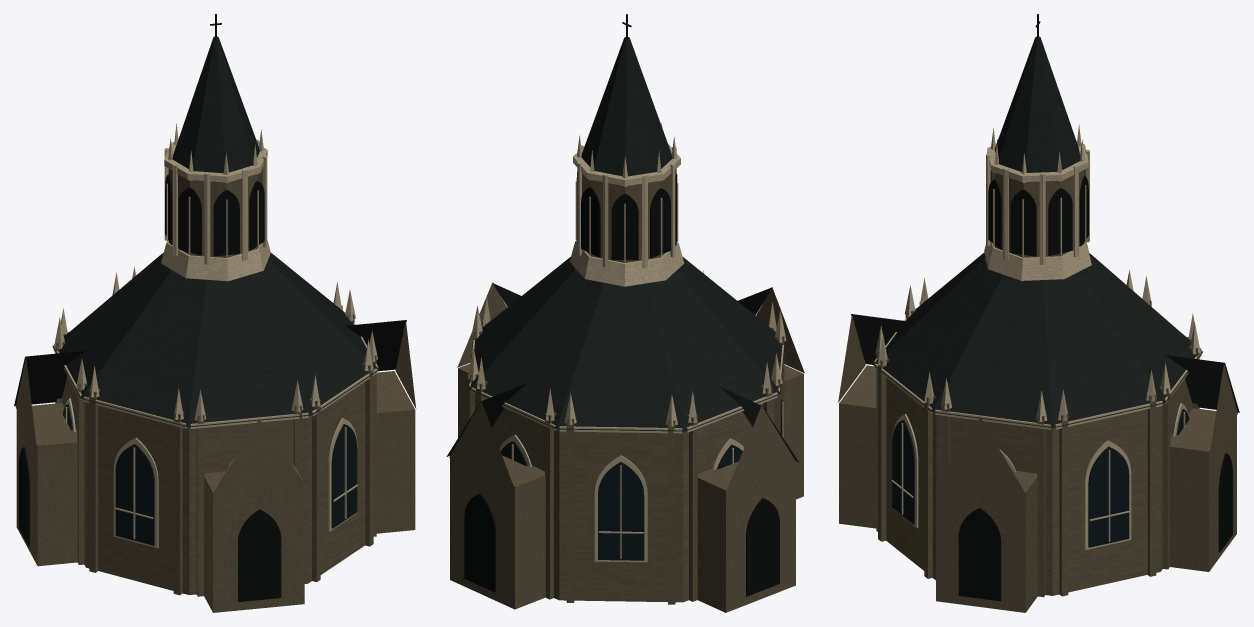
The picture shows the model from 3 angles, left to right: view 1: azimuth 30°, elevation 25°; view 2: azimuth 150°, elevation 25°; view 3: azimuth 270°, elevation 25°; orthographic projection.
Visible parts, largest first — view 1: zuiderkerk-0, zuiderkerk-1, zuiderkerk-2, zuiderkerk-4, zuiderkerk-5, zuiderkerk-3; view 2: zuiderkerk-0, zuiderkerk-1, zuiderkerk-2, zuiderkerk-4, zuiderkerk-5, zuiderkerk-3; view 3: zuiderkerk-0, zuiderkerk-1, zuiderkerk-2, zuiderkerk-4, zuiderkerk-5, zuiderkerk-3.
Part boxes in pixels (box(x1,y1,x2,y2)): zuiderkerk-0: box(15, 169, 416, 612); zuiderkerk-1: box(14, 253, 406, 427); zuiderkerk-2: box(53, 123, 378, 548); zuiderkerk-4: box(18, 14, 281, 601); zuiderkerk-5: box(172, 36, 259, 173); zuiderkerk-3: box(63, 404, 357, 545); zuiderkerk-0: box(449, 169, 804, 612); zuiderkerk-1: box(446, 256, 799, 462); zuiderkerk-2: box(467, 123, 786, 562); zuiderkerk-4: box(464, 14, 779, 596); zuiderkerk-5: box(581, 37, 672, 176); zuiderkerk-3: box(501, 399, 782, 560); zuiderkerk-0: box(838, 169, 1237, 612); zuiderkerk-1: box(851, 253, 1239, 428); zuiderkerk-2: box(874, 124, 1201, 549); zuiderkerk-4: box(958, 14, 1232, 601); zuiderkerk-5: box(994, 36, 1080, 172); zuiderkerk-3: box(892, 409, 1189, 547).
Size of the model in its own units: 36.48 by 51.3 by 36.48.
Materials: 6 (6 with a texture image).
